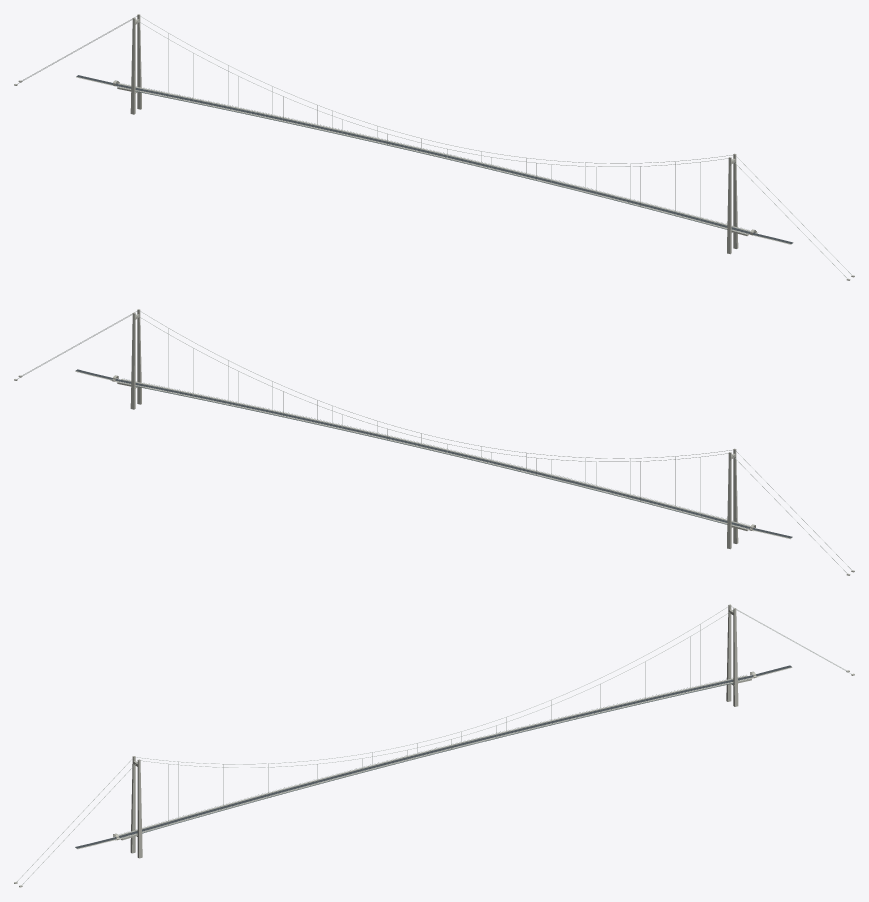
File: hardanger-bridge-far.glb
3 renders of one model, top to bottom at view 1: azimuth 30°, elevation 25°; view 2: azimuth 210°, elevation 25°; view 3: azimuth 270°, elevation 25°, orthographic. The views are drawn at different scales.
Visible parts, largest first — view 1: hardanger-bridge-0-concrete, hardanger-bridge-0-cable, hardanger-bridge-0-asphalt, hardanger-bridge-0-steel; view 2: hardanger-bridge-0-concrete, hardanger-bridge-0-cable, hardanger-bridge-0-asphalt, hardanger-bridge-0-steel; view 3: hardanger-bridge-0-concrete, hardanger-bridge-0-cable, hardanger-bridge-0-asphalt, hardanger-bridge-0-steel.
Part boxes in pixels (x1,y1,x2,y2): hardanger-bridge-0-concrete: (14, 14, 854, 280); hardanger-bridge-0-cable: (16, 16, 851, 278); hardanger-bridge-0-asphalt: (76, 75, 792, 243); hardanger-bridge-0-steel: (117, 84, 749, 233); hardanger-bridge-0-concrete: (14, 309, 854, 575); hardanger-bridge-0-cable: (16, 311, 851, 573); hardanger-bridge-0-asphalt: (75, 369, 792, 538); hardanger-bridge-0-steel: (117, 378, 743, 528); hardanger-bridge-0-concrete: (14, 604, 854, 887); hardanger-bridge-0-cable: (17, 606, 852, 884); hardanger-bridge-0-asphalt: (75, 665, 791, 848); hardanger-bridge-0-steel: (122, 675, 750, 838).
Size of the model in its own units: 965 by 202 by 1585.
